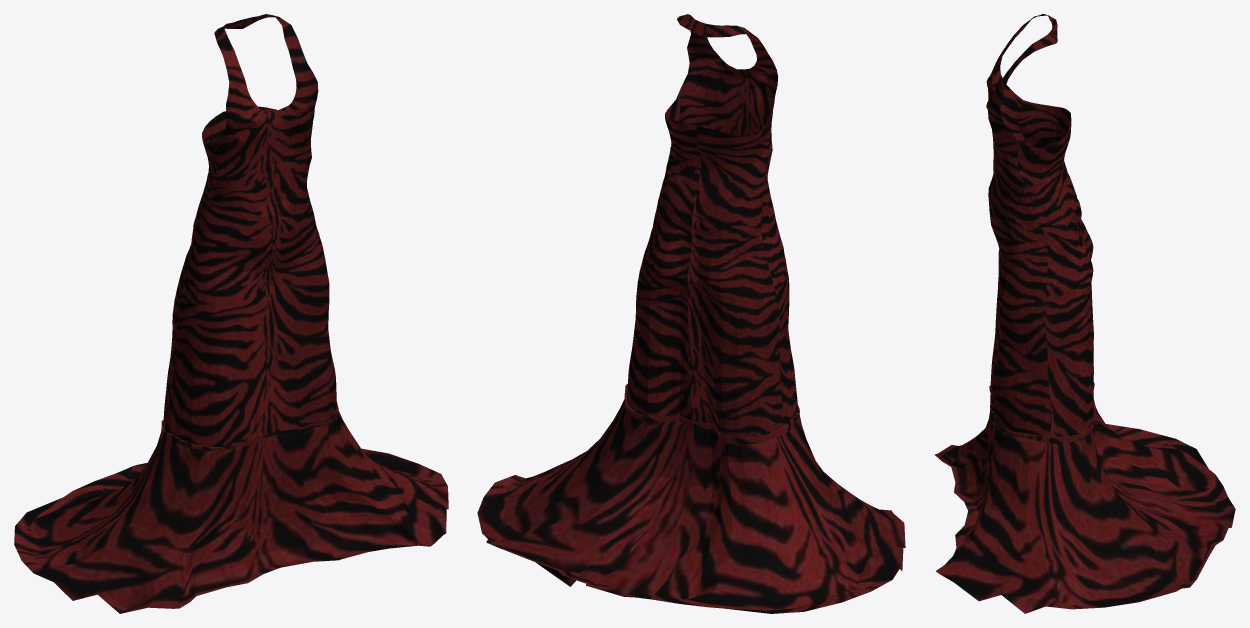
Rendered from mhw_toigo_halter_dress_with_fluted_skirt.glb.
3 views of the same model, side by side, from view 1: azimuth 30°, elevation 25°; view 2: azimuth 150°, elevation 25°; view 3: azimuth 270°, elevation 25° (orthographic). The views are drawn at different scales.
Visible parts, largest first — view 1: mhw_toigo_halter_dress_with_fluted_skirt; view 2: mhw_toigo_halter_dress_with_fluted_skirt; view 3: mhw_toigo_halter_dress_with_fluted_skirt.
Part boxes in pixels (bbox=[...]): mhw_toigo_halter_dress_with_fluted_skirt: bbox=[14, 14, 448, 613]; mhw_toigo_halter_dress_with_fluted_skirt: bbox=[477, 14, 905, 613]; mhw_toigo_halter_dress_with_fluted_skirt: bbox=[934, 14, 1235, 613].
Size of the model in its own units: 1.31 by 1.64 by 0.8823.
Materials: 1 (1 with a texture image).
